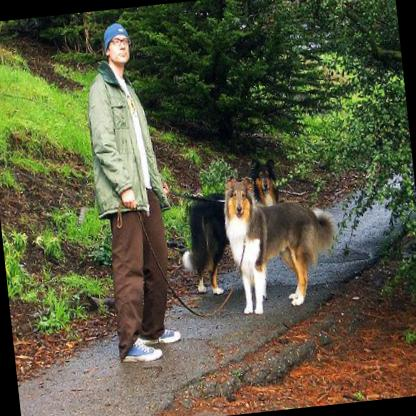collie: (215, 158, 350, 324), (170, 156, 289, 297)
